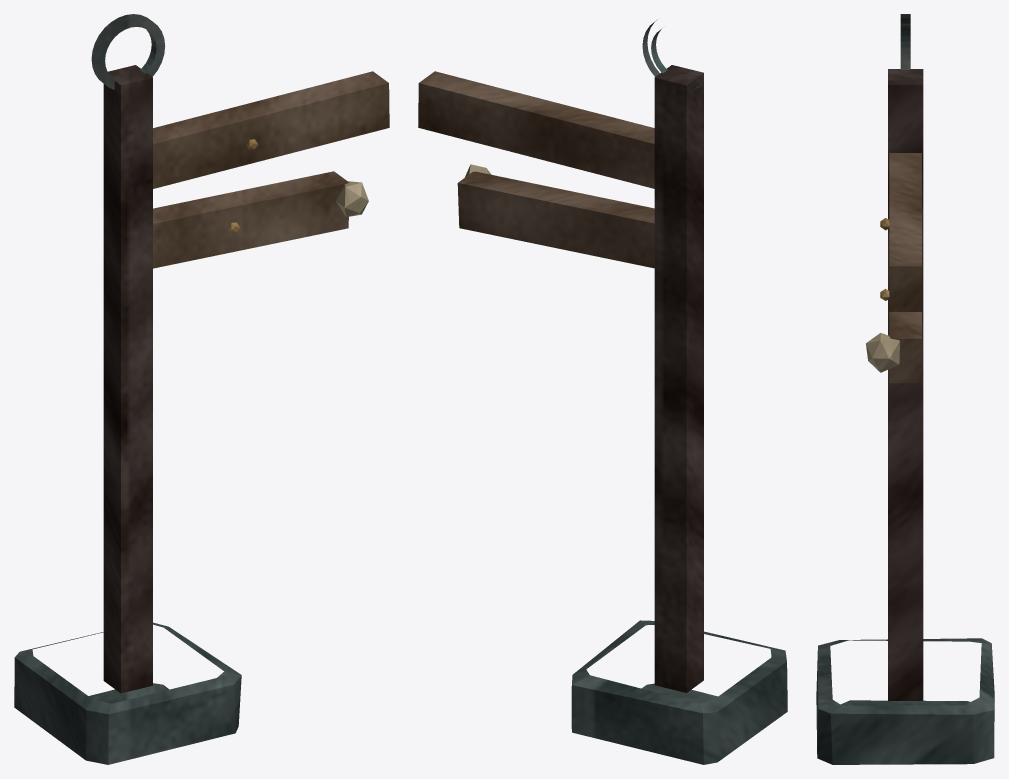
Rendered from 0643_signpost_18.glb.
The picture shows the model from 3 angles, left to right: view 1: azimuth 30°, elevation 25°; view 2: azimuth 150°, elevation 25°; view 3: azimuth 270°, elevation 25°; orthographic projection.
Visible parts, largest first — view 1: wood_dark, wood, stone_dark, iron, bone; view 2: wood_dark, wood, stone_dark; view 3: wood_dark, stone_dark, wood, bone, iron.
Part boxes in pixels (x1=…): wood_dark: x1=103, y1=65, x2=152, y2=693; wood: x1=153, y1=71, x2=389, y2=268; stone_dark: x1=14, y1=622, x2=241, y2=764; iron: x1=91, y1=14, x2=165, y2=89; bone: x1=336, y1=181, x2=368, y2=217; wood_dark: x1=654, y1=65, x2=703, y2=692; wood: x1=418, y1=71, x2=654, y2=268; stone_dark: x1=571, y1=620, x2=787, y2=764; wood_dark: x1=888, y1=69, x2=923, y2=700; stone_dark: x1=816, y1=638, x2=994, y2=764; wood: x1=889, y1=153, x2=921, y2=383; bone: x1=866, y1=333, x2=899, y2=372; iron: x1=900, y1=14, x2=910, y2=69.
Bounding box in the file's own units: 1.53 × 3.14 × 0.7099.
Materials: 6 (6 with a texture image).
